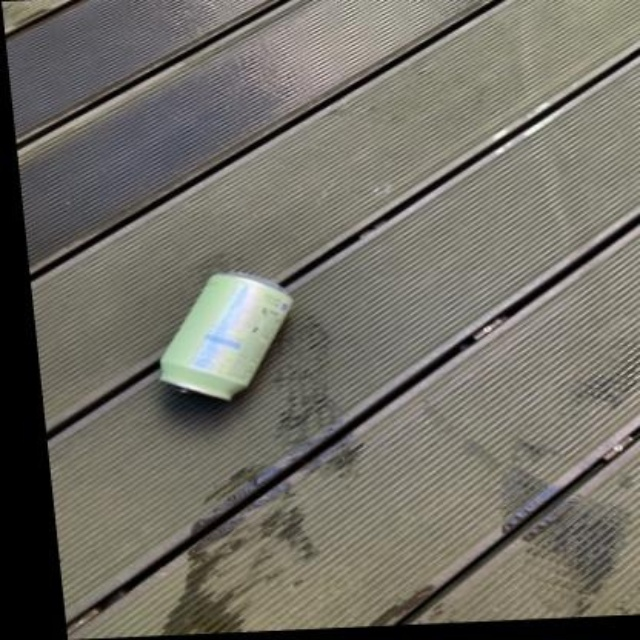trash: (160, 272, 291, 398)
